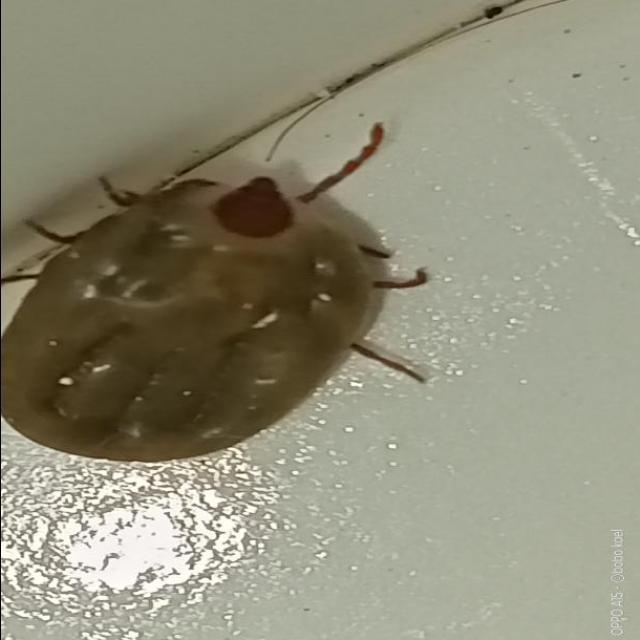Rhipicephalus Sanguineus-F-Fed: (0, 124, 428, 463)
